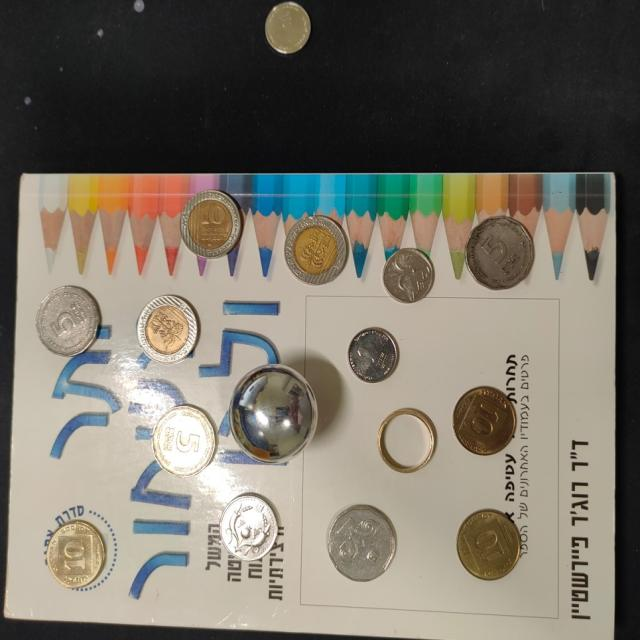1-shekel: (379, 248, 435, 306), (350, 329, 403, 390), (263, 5, 315, 60)
10-shekel: (177, 186, 242, 256), (285, 214, 348, 285), (137, 294, 201, 362)
2-shekel: (218, 492, 279, 561)
5-shekel: (327, 506, 397, 592), (463, 218, 536, 292), (150, 405, 217, 479), (36, 284, 99, 360)
